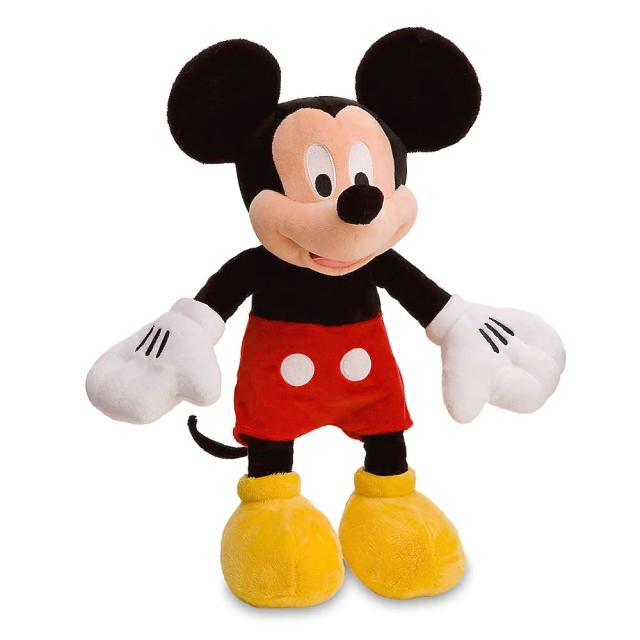mickey: (87, 29, 564, 606)
